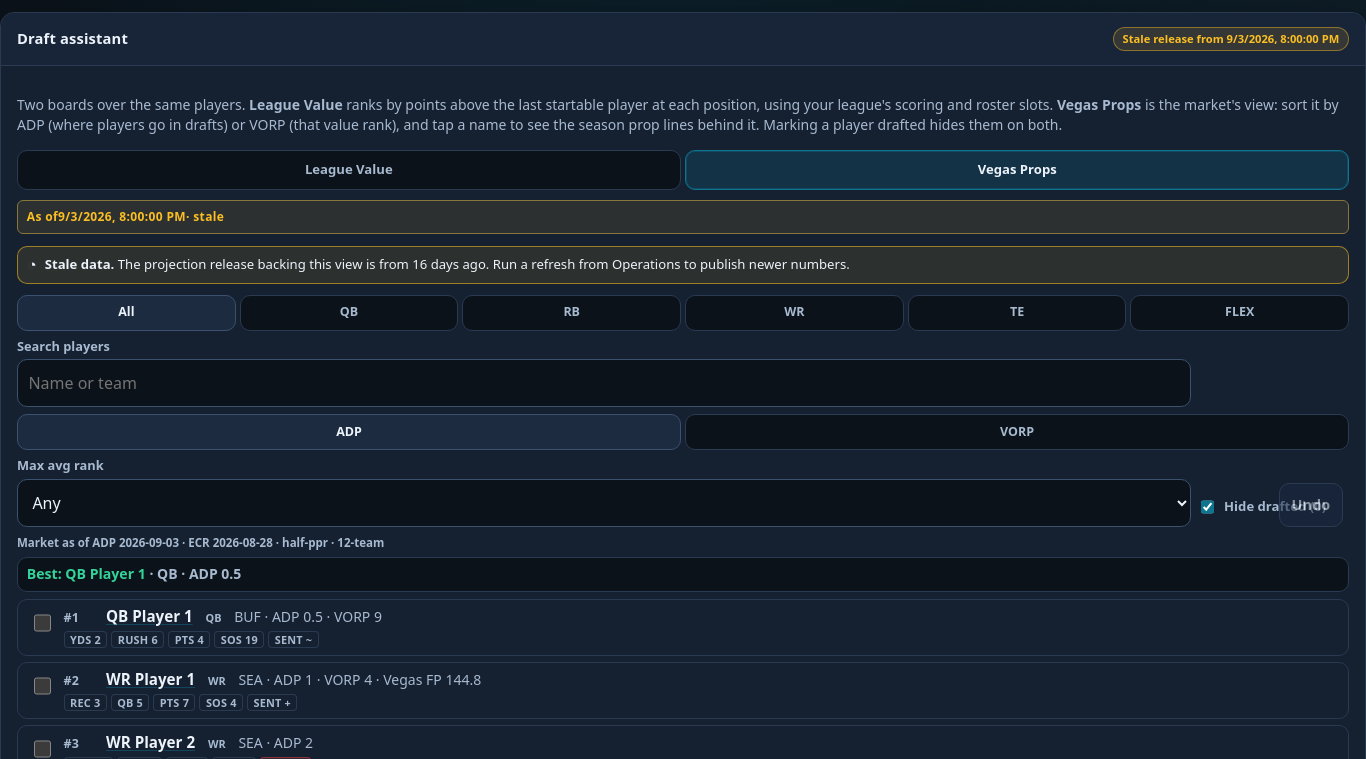
Test: DraftScreen › reorders the checklist by league VORP when VORP sort is selected
The image size is (1366, 759).
Expected: the checkbox named "Mark QB Player 1 drafted" is shown, [34,615,51,632]
Click the button "VORP": click(1017, 432) [685,414,1349,450]
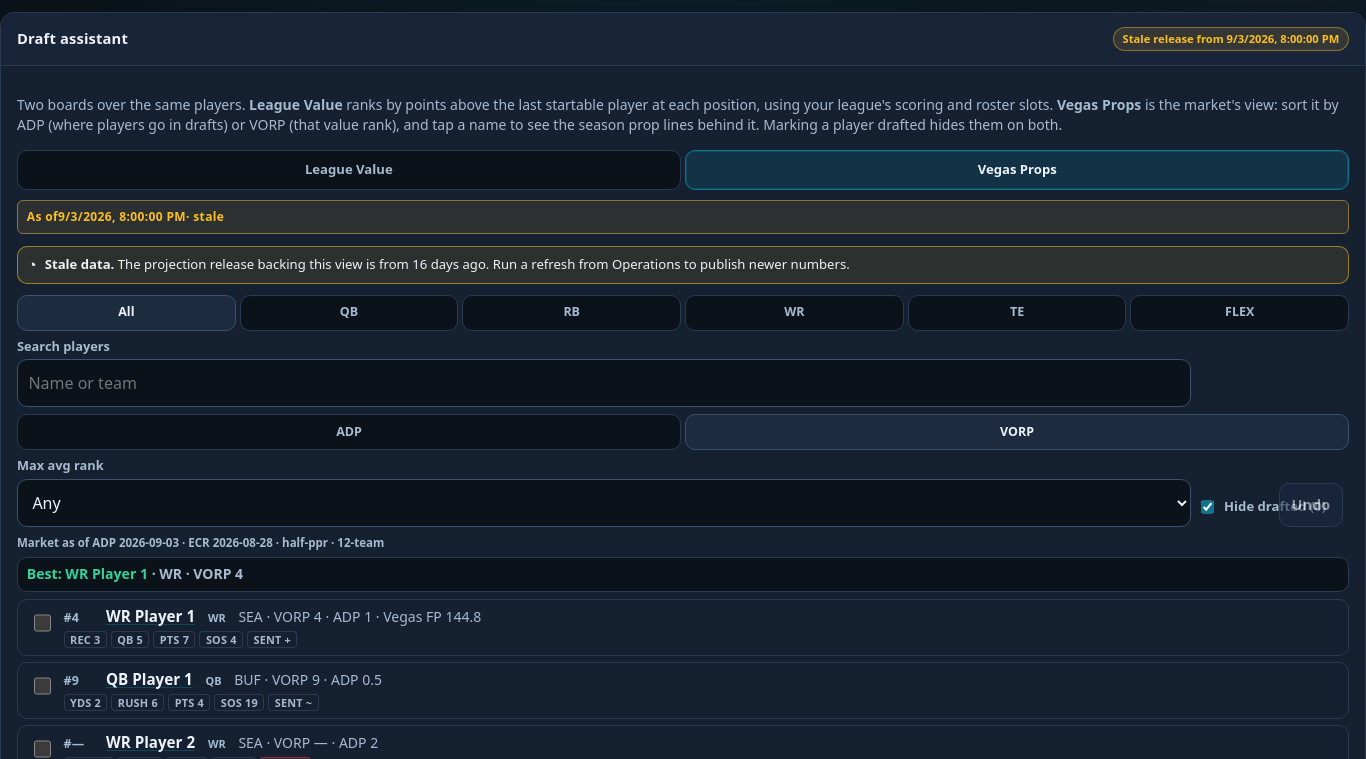
Expected: the button "ADP" is shown, [17,414,681,450]
Expected: the text "#4" is shown, [64,610,79,626]
